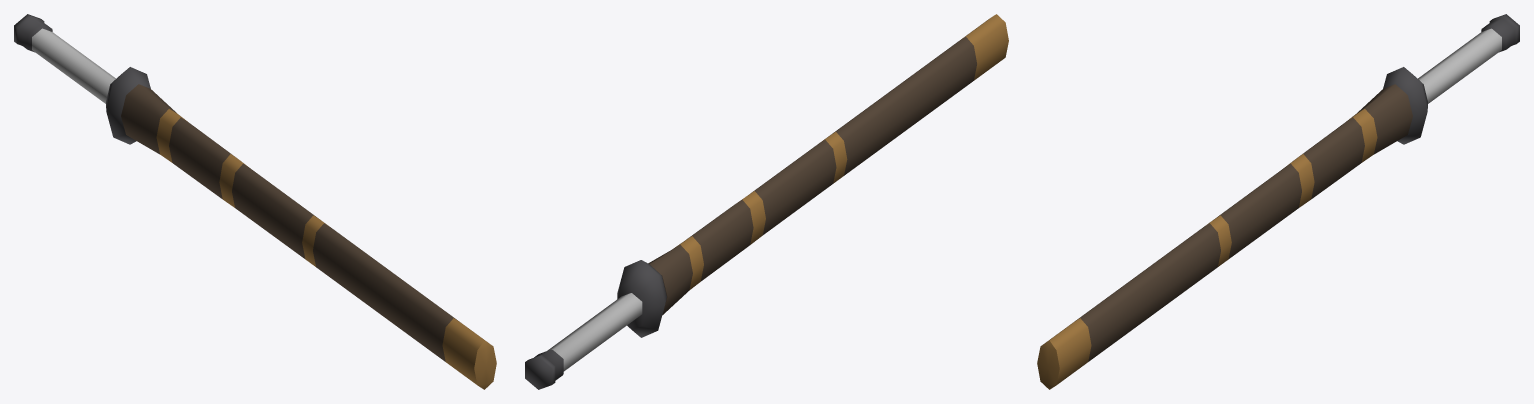
The model's file is Procedural Rigg.fbx.
3 views of the same model, side by side, from view 1: azimuth 30°, elevation 25°; view 2: azimuth 150°, elevation 25°; view 3: azimuth 330°, elevation 25° (orthographic).
Parts seen in each view (by area): view 1: Sheathe, Jian; view 2: Sheathe, Jian; view 3: Sheathe, Jian.
Boxes of the visible parts, box(x1,y1,x2,y2) form: Sheathe: box(121, 84, 496, 389); Jian: box(14, 14, 150, 144); Sheathe: box(648, 14, 1008, 314); Jian: box(525, 260, 666, 389); Sheathe: box(1037, 84, 1412, 389); Jian: box(1383, 14, 1519, 144).
Size of the model in its own units: 6.78 by 10.61 by 113.
